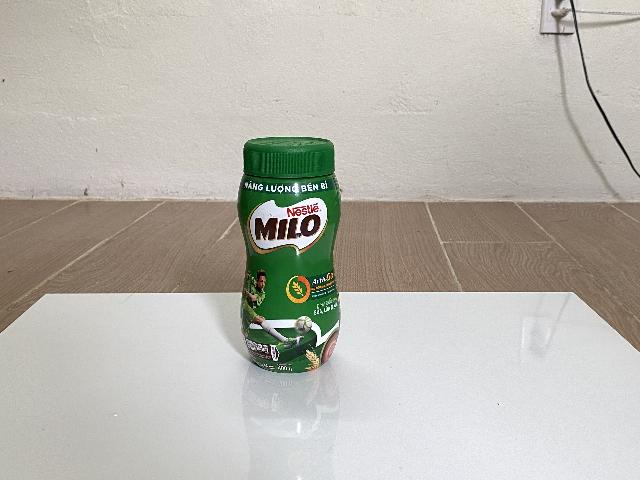milo: (236, 137, 342, 376)
